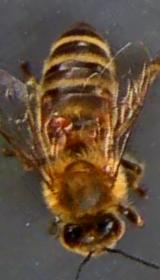varroa_mite: (49, 110, 72, 134)
